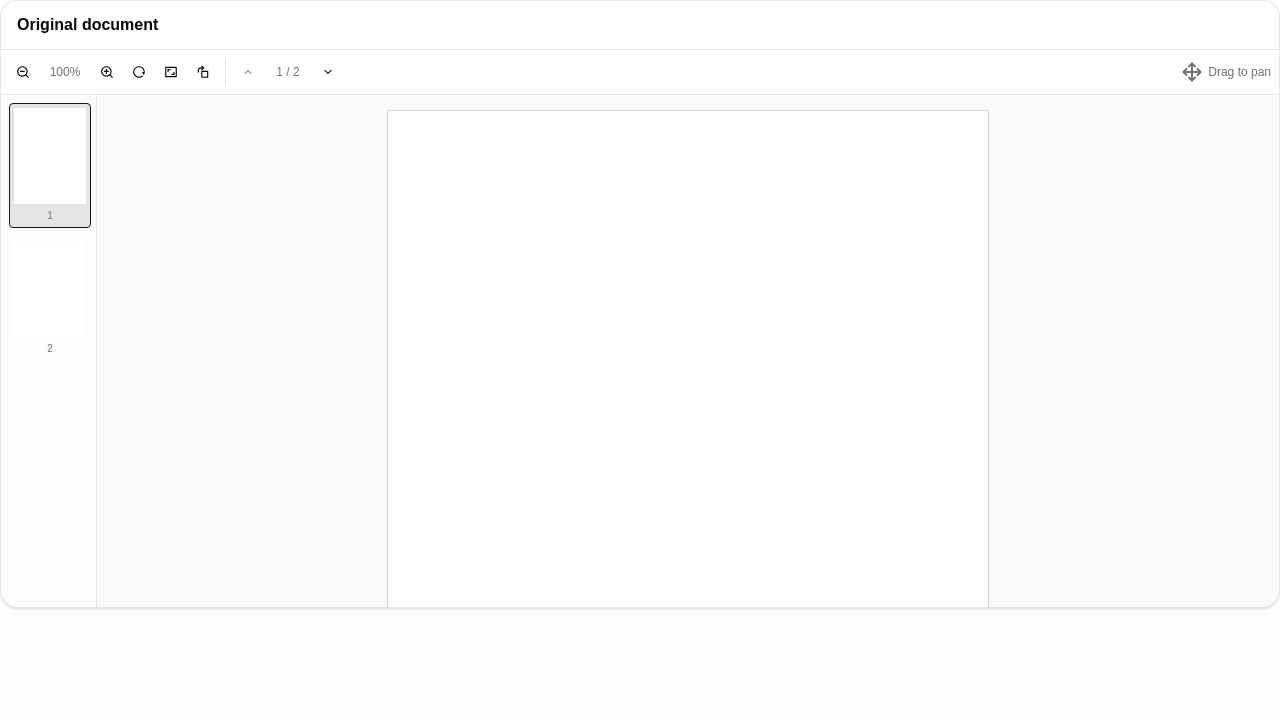
it: SourcePreview PDF viewer › loads pages through PDF.js and rerenders visible pages after zooming
Expected: the text "1 / 2" is shown, [276, 65, 300, 79]
Expected: the element named "Page 1" is shown, [388, 111, 988, 607]
Click the button named "Zoom in" at [107, 72], box [93, 58, 121, 86]
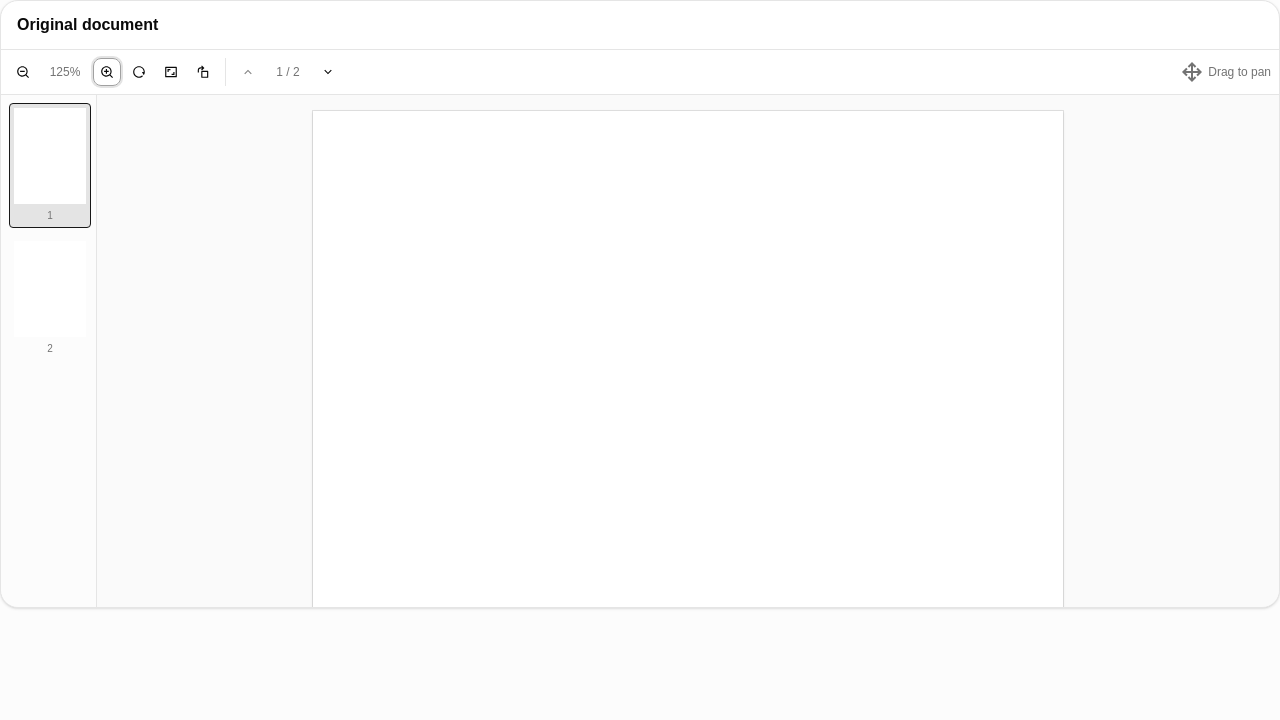
Now the text "125%" is shown, box [50, 65, 80, 79]
